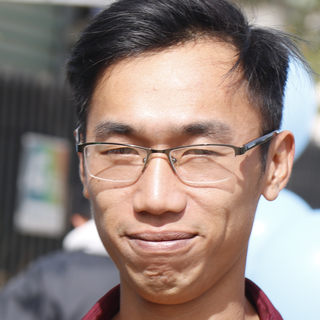eye: (95, 141, 152, 168), (179, 141, 230, 167)
